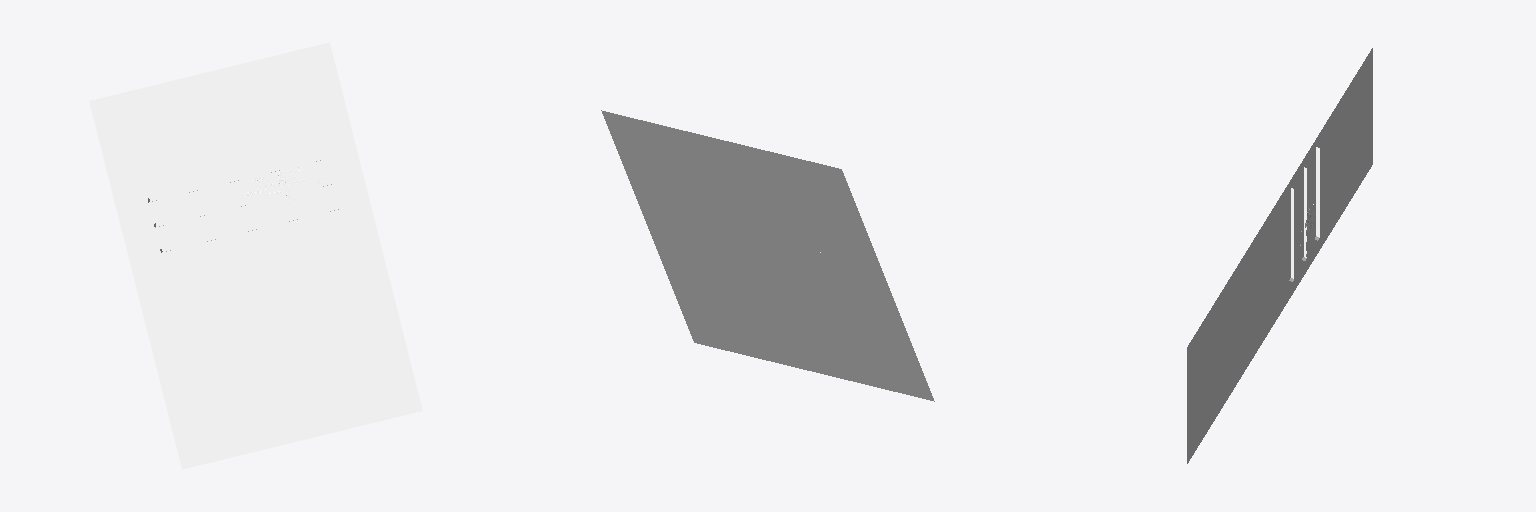
The model's file is Thing_4.obj.
3 renders of one model, left to right at view 1: azimuth 30°, elevation 25°; view 2: azimuth 150°, elevation 25°; view 3: azimuth 270°, elevation 25°, orthographic.
Parts seen in each view (by area): view 1: Mesh712_Group171_Group168_Group_50_2_Model, Mesh714_Group173_Group172_Group168_Group_50_2_Model, Mesh716_Group175_Group172_Group168_Group_50_2_Model, Mesh715_Group174_Group172_Group168_Group_50_2_Model; view 2: Mesh712_Group171_Group168_Group_50_2_Model; view 3: Mesh712_Group171_Group168_Group_50_2_Model, Mesh716_Group175_Group172_Group168_Group_50_2_Model.
Part boxes in pixels (bbox=[...]): Mesh712_Group171_Group168_Group_50_2_Model: bbox=[89, 42, 422, 469]; Mesh714_Group173_Group172_Group168_Group_50_2_Model: bbox=[160, 204, 346, 252]; Mesh716_Group175_Group172_Group168_Group_50_2_Model: bbox=[148, 153, 333, 202]; Mesh715_Group174_Group172_Group168_Group_50_2_Model: bbox=[154, 179, 339, 227]; Mesh712_Group171_Group168_Group_50_2_Model: bbox=[601, 110, 934, 401]; Mesh712_Group171_Group168_Group_50_2_Model: bbox=[1187, 48, 1372, 463]; Mesh716_Group175_Group172_Group168_Group_50_2_Model: bbox=[1314, 147, 1319, 240].
Bounding box in the file's own units: 3.8 × 4.53 × 2.54.